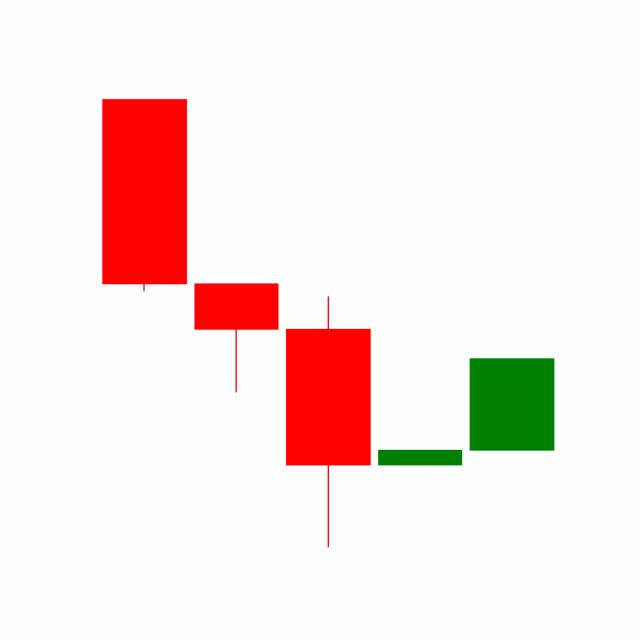Marubozu: (464, 356, 558, 451)
